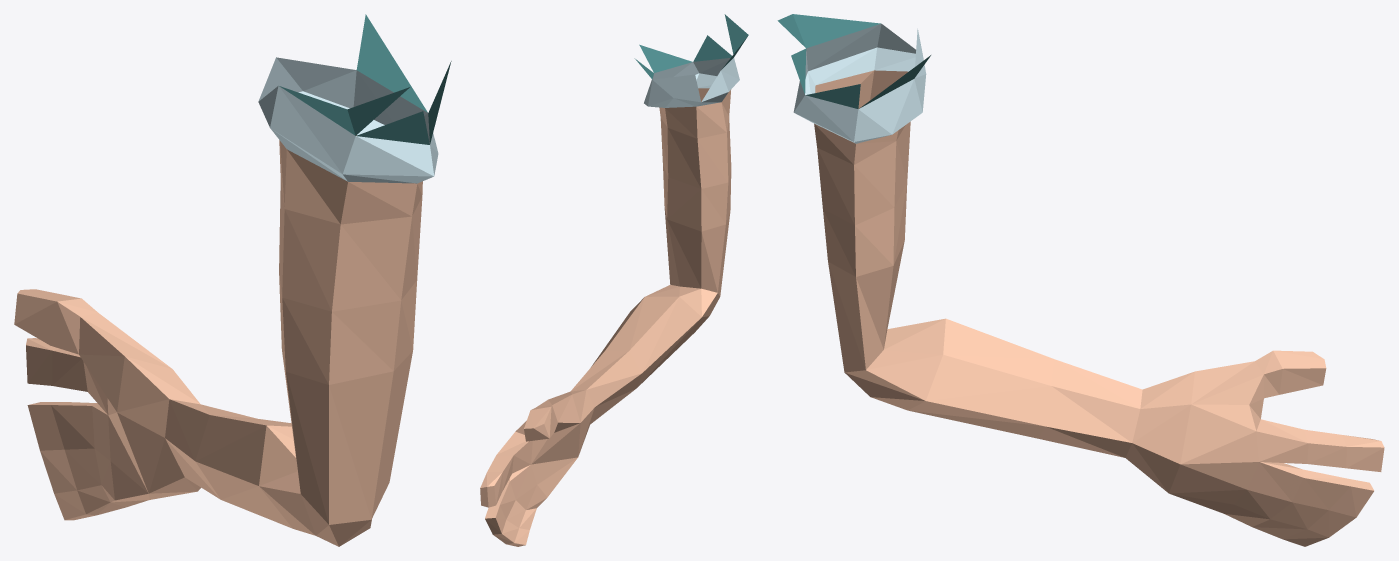
Rendered from Mother_01_ArmR_74.obj.
The picture shows the model from 3 angles, left to right: view 1: azimuth 30°, elevation 25°; view 2: azimuth 150°, elevation 25°; view 3: azimuth 270°, elevation 25°; orthographic projection. The views are drawn at different scales.
Parts seen in each view (by area): view 1: Mother_01_ArmR_74; view 2: Mother_01_ArmR_74; view 3: Mother_01_ArmR_74.
Boxes of the visible parts, x1,y1,x2,y2 form: Mother_01_ArmR_74: [14, 14, 451, 546]; Mother_01_ArmR_74: [480, 14, 748, 546]; Mother_01_ArmR_74: [777, 14, 1384, 546].
Size of the model in its own units: 0.1419 by 0.5521 by 0.5836.
1 material, 1 textured.
